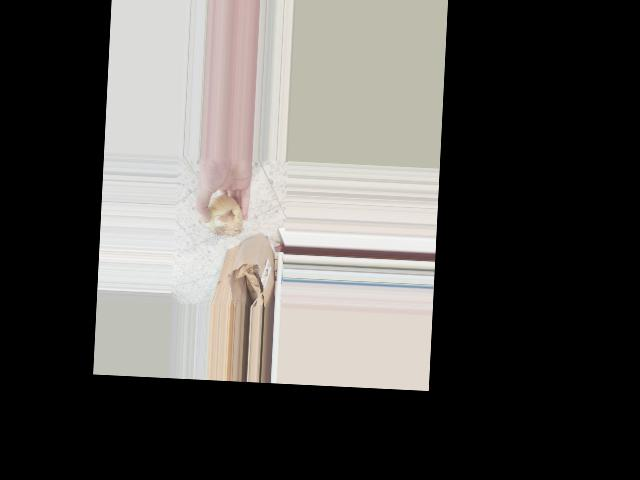onion: (196, 189, 244, 238)
